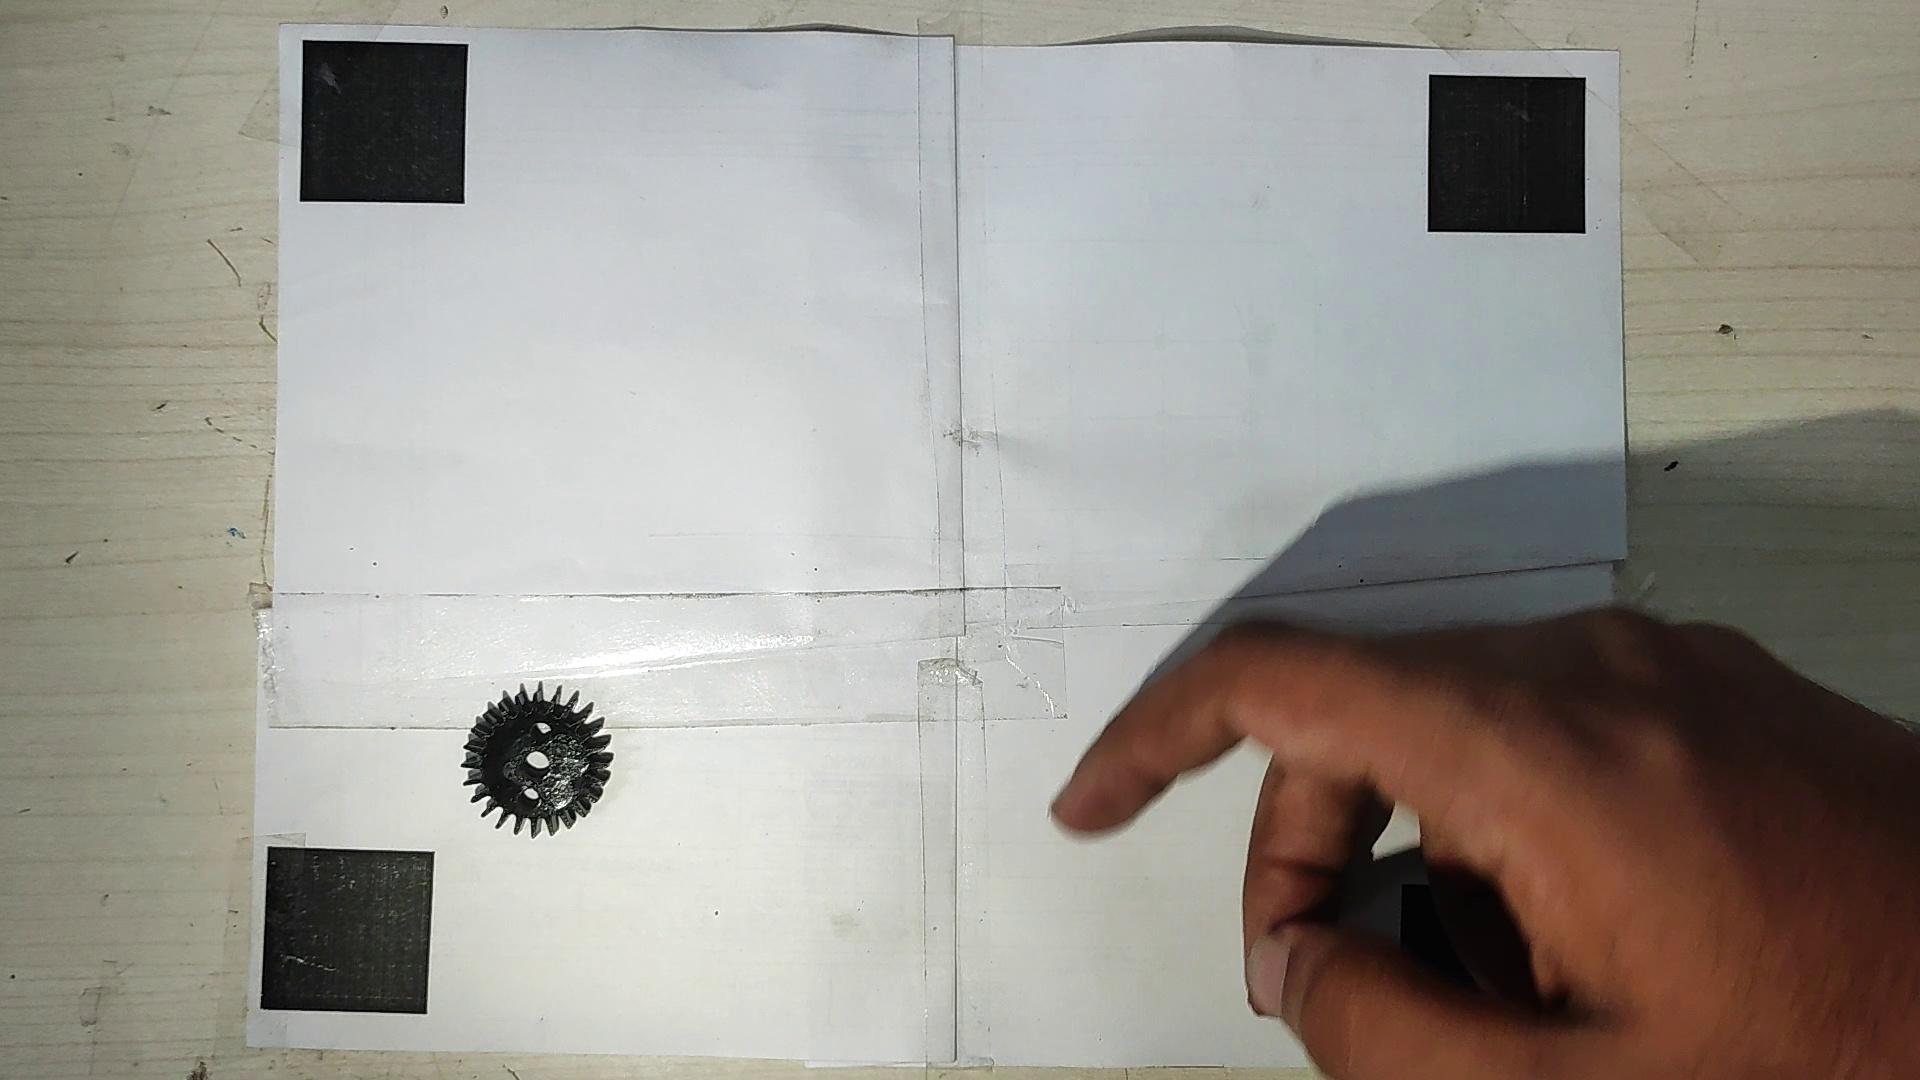Gear: (448, 680, 616, 843)
